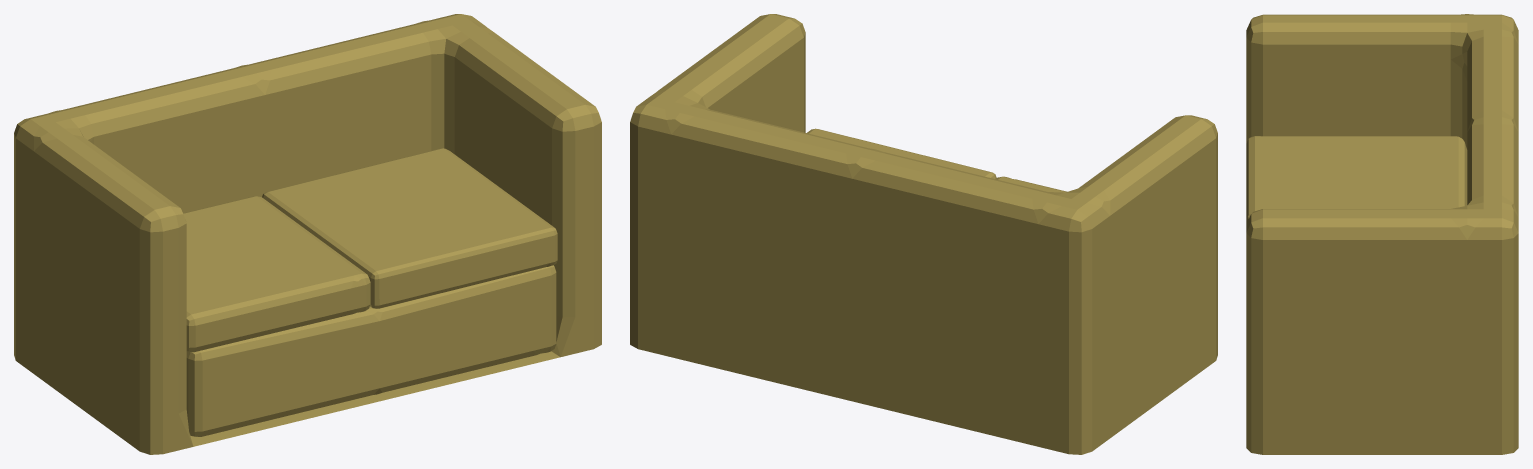
The model's file is sofa.fbx.
3 renders of one model, left to right at view 1: azimuth 30°, elevation 25°; view 2: azimuth 150°, elevation 25°; view 3: azimuth 270°, elevation 25°, orthographic. The views are drawn at different scales.
Visible parts, largest first — view 1: Sofa Base 2.001; view 2: Sofa Base 2.001; view 3: Sofa Base 2.001.
Boxes of the visible parts, x1=… form: Sofa Base 2.001: x1=14, y1=14, x2=601, y2=454; Sofa Base 2.001: x1=630, y1=14, x2=1217, y2=454; Sofa Base 2.001: x1=1246, y1=14, x2=1518, y2=454.
Bounding box in the file's own units: 345 × 170 × 183.
